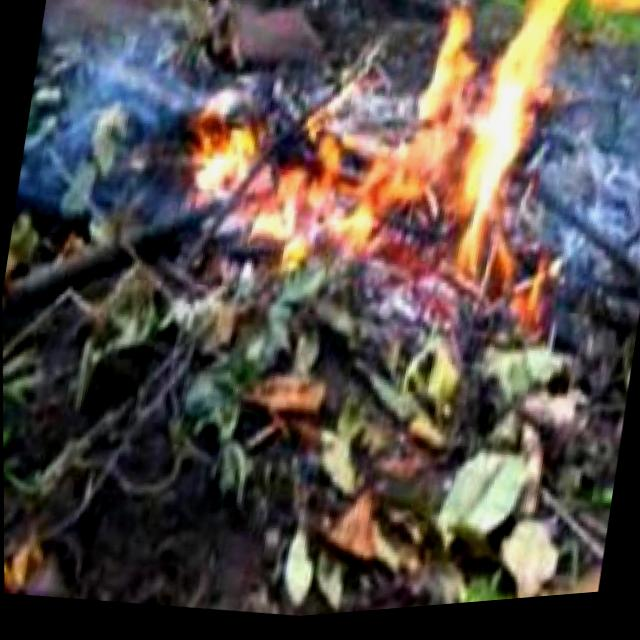helmet: (357, 0, 603, 336), (165, 80, 484, 287)
